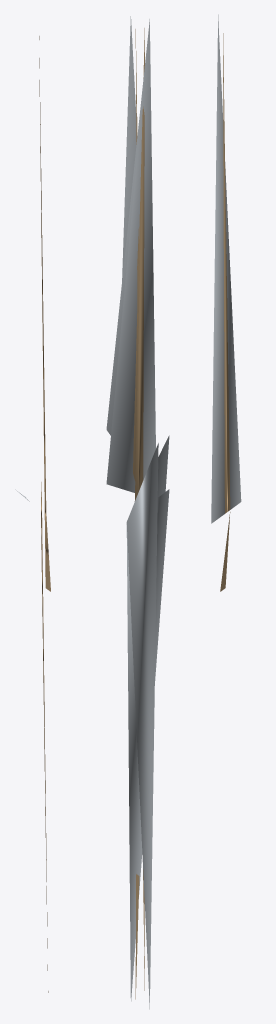
Rendered from equip_weapon_steel_axe.glb.
3 renders of one model, left to right at view 1: azimuth 30°, elevation 25°; view 2: azimuth 150°, elevation 25°; view 3: azimuth 330°, elevation 25°, orthographic.
Visible parts, largest first — view 1: equip_weapon_steel_axe; view 2: equip_weapon_steel_axe; view 3: equip_weapon_steel_axe.
Boxes of the visible parts, bbox=[...] form: equip_weapon_steel_axe: bbox=[15, 36, 50, 992]; equip_weapon_steel_axe: bbox=[106, 16, 169, 1009]; equip_weapon_steel_axe: bbox=[211, 14, 241, 591].
Size of the model in its own units: 0.11 by 2 by 0.11.
